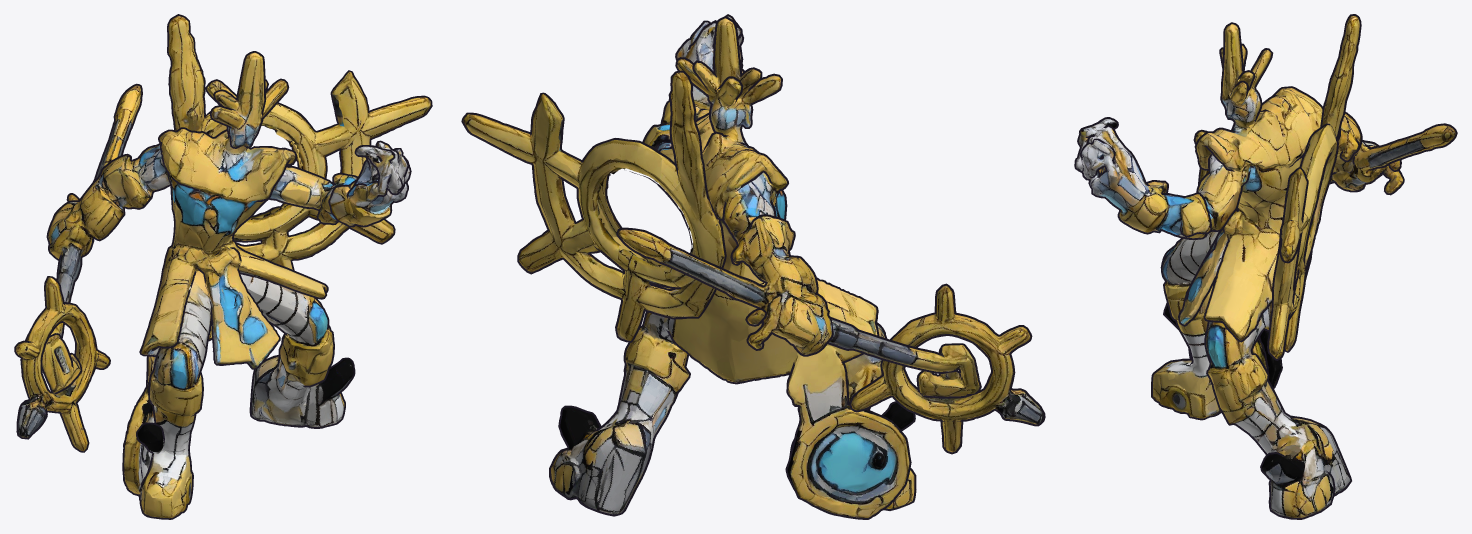
Rendered from monster.glb.
The picture shows the model from 3 angles, left to right: view 1: azimuth 30°, elevation 25°; view 2: azimuth 150°, elevation 25°; view 3: azimuth 270°, elevation 25°; orthographic projection. The views are drawn at different scales.
Visible parts, largest first — view 1: body, leg_fr-mesh (×2), leg_br-mesh (×2), leg_bl-mesh (×2), leg_fl-mesh (×2), head-mesh (×2); view 2: body, leg_fr-mesh (×2), leg_br-mesh (×2), leg_bl-mesh (×2), head-mesh (×2), leg_fl-mesh (×2); view 3: body, leg_bl-mesh (×2), leg_fl-mesh (×2), leg_br-mesh (×2), head-mesh (×2), leg_fr-mesh (×2).
Part boxes in pixels (<box>): body: <box>72,14,432,387</box>; leg_fr-mesh (×2): <box>14,153,188,452</box>; leg_br-mesh (×2): <box>96,331,268,519</box>; leg_bl-mesh (×2): <box>249,322,355,428</box>; leg_fl-mesh (×2): <box>278,80,411,227</box>; head-mesh (×2): <box>165,51,284,151</box>; body: <box>461,59,887,401</box>; leg_fr-mesh (×2): <box>714,209,1045,454</box>; leg_br-mesh (×2): <box>709,360,916,519</box>; leg_bl-mesh (×2): <box>549,325,712,516</box>; head-mesh (×2): <box>645,16,782,175</box>; leg_fl-mesh (×2): <box>642,14,744,182</box>; body: <box>1160,14,1457,363</box>; leg_bl-mesh (×2): <box>1205,329,1351,519</box>; leg_fl-mesh (×2): <box>1074,82,1245,239</box>; leg_br-mesh (×2): <box>1151,277,1282,420</box>; head-mesh (×2): <box>1207,22,1334,136</box>; leg_fr-mesh (×2): <box>1193,112,1404,195</box>.
Size of the model in its own units: 2.04 by 1.75 by 1.38.
Materials: 2 (1 with a texture image).
